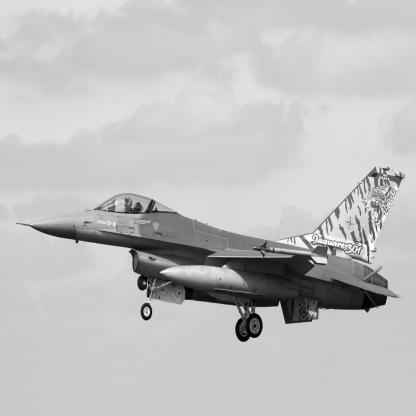F16: (16, 168, 408, 344)
